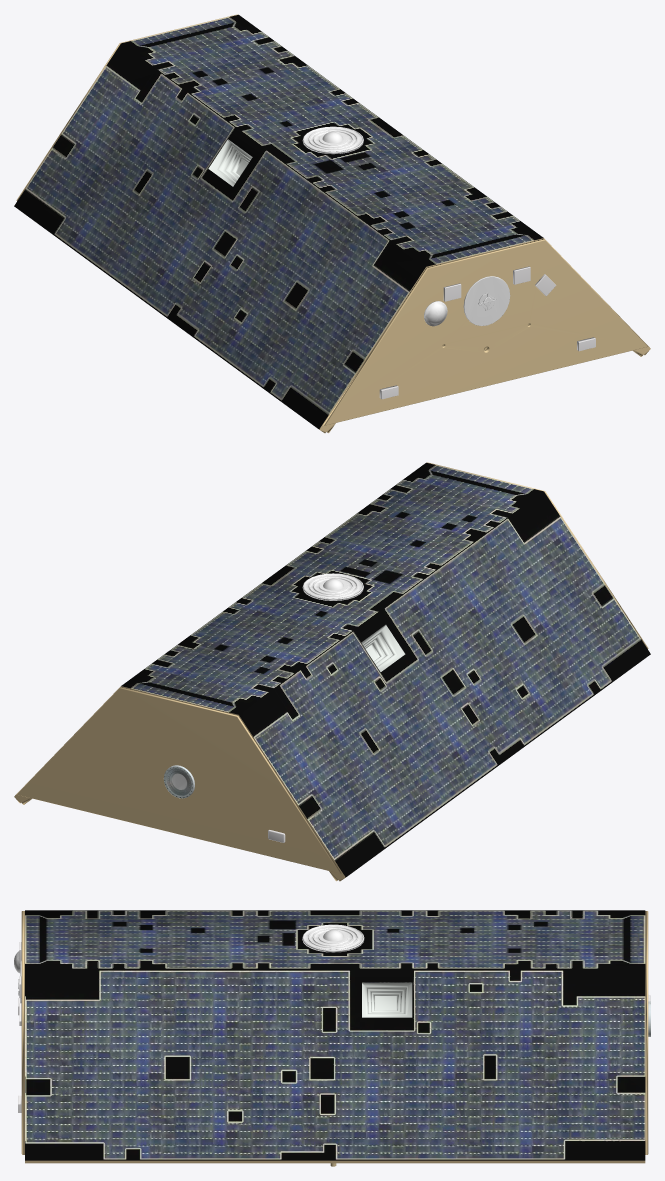
File: gracefo.glb
The picture shows the model from 3 angles, top to bottom: view 1: azimuth 30°, elevation 25°; view 2: azimuth 150°, elevation 25°; view 3: azimuth 270°, elevation 25°; orthographic projection.
Parts seen in each view (by area): view 1: Mesh .006, Mesh, Mesh .004; view 2: Mesh .006, Mesh; view 3: Mesh .006, Mesh.
Boxes of the visible parts, x1=… form: Mesh .006: x1=14, y1=14, x2=543, y2=429; Mesh: x1=16, y1=14, x2=650, y2=433; Mesh .004: x1=379, y1=266, x2=595, y2=399; Mesh .006: x1=121, y1=462, x2=650, y2=877; Mesh: x1=14, y1=462, x2=648, y2=881; Mesh .006: x1=25, y1=910, x2=650, y2=1160; Mesh: x1=14, y1=911, x2=648, y2=1163.
Bounding box in the file's own units: 4.81 × 3.2 × 7.87.
5 materials, 5 textured.
